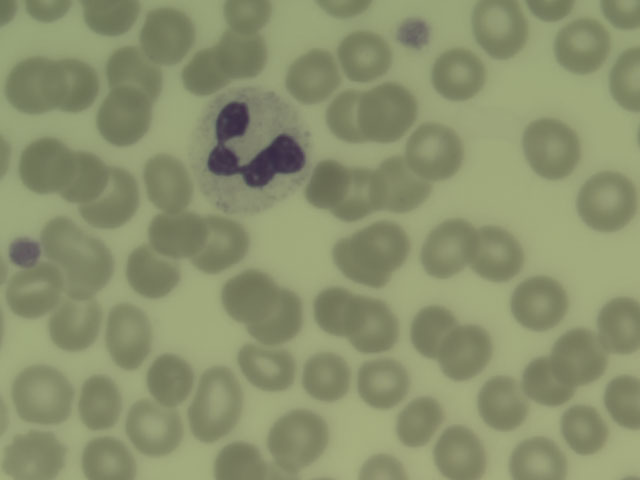Platelets: (394, 16, 431, 51), (7, 236, 41, 268)
RBC: (194, 358, 243, 439), (334, 25, 394, 83), (467, 378, 528, 433), (505, 426, 567, 480), (410, 123, 468, 180), (324, 86, 380, 141), (7, 426, 63, 480), (435, 424, 487, 480), (337, 162, 388, 219), (358, 220, 410, 275), (332, 231, 384, 286), (376, 155, 428, 210), (295, 154, 347, 209), (422, 221, 474, 276), (473, 221, 525, 276), (512, 275, 564, 330), (588, 293, 640, 348), (555, 325, 607, 380), (519, 356, 571, 411), (558, 402, 610, 457), (443, 324, 495, 379), (410, 303, 462, 358), (395, 390, 447, 445), (357, 355, 409, 410), (353, 299, 405, 354), (314, 281, 366, 336), (302, 351, 354, 406), (272, 410, 324, 465), (241, 339, 293, 394), (250, 287, 302, 342), (222, 265, 274, 320), (579, 174, 631, 229), (528, 120, 580, 175), (556, 18, 608, 73), (430, 46, 482, 101), (364, 84, 416, 139), (286, 45, 338, 100), (217, 24, 269, 79), (178, 47, 230, 102), (194, 216, 246, 271), (151, 203, 203, 258), (141, 151, 193, 206), (126, 241, 178, 296), (130, 400, 182, 455), (146, 350, 198, 405), (103, 308, 155, 363), (72, 371, 124, 426), (16, 366, 68, 421), (50, 293, 102, 348), (7, 262, 59, 317), (64, 237, 116, 292), (38, 213, 90, 268), (86, 170, 138, 225), (55, 148, 107, 203), (17, 139, 69, 194), (96, 91, 148, 146), (107, 46, 159, 101), (45, 59, 97, 114), (8, 56, 60, 111), (141, 7, 193, 62), (471, 1, 523, 55), (83, 438, 137, 480), (602, 375, 640, 430), (85, 1, 137, 36), (216, 440, 260, 480), (615, 49, 640, 113), (357, 448, 404, 480), (316, 1, 376, 23), (225, 1, 267, 28), (523, 1, 575, 22), (22, 1, 70, 23), (605, 1, 640, 28)
WBC: (195, 89, 310, 211)
